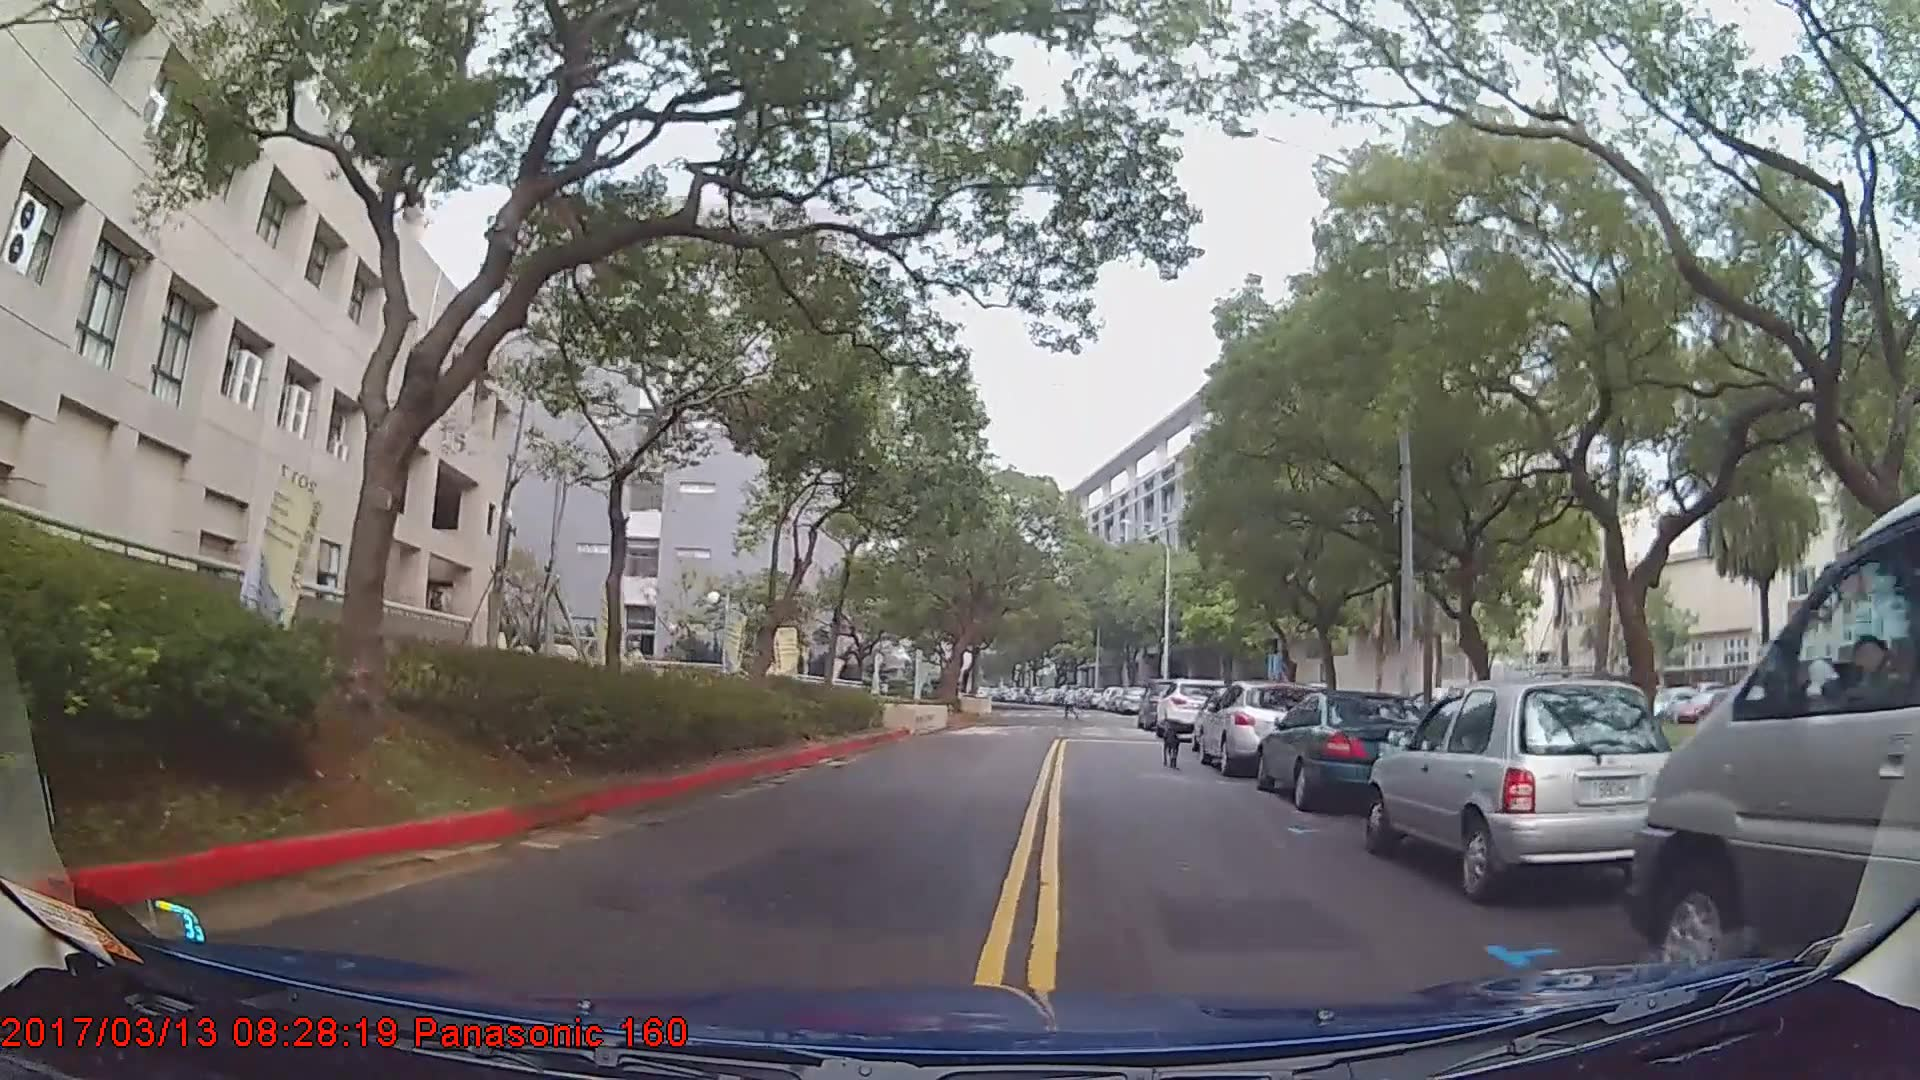pedestrian: (1062, 684, 1082, 722)
vehicle: (1634, 491, 1920, 996), (1368, 675, 1684, 901), (1256, 688, 1444, 815), (1197, 677, 1319, 776), (1157, 677, 1231, 740)
